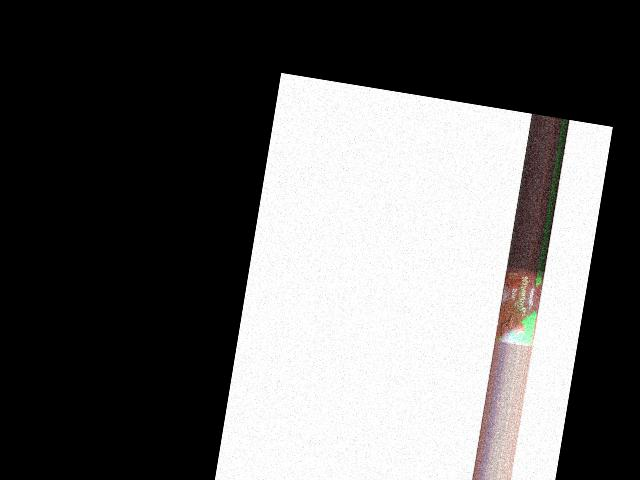chocolate: (495, 264, 543, 346)
